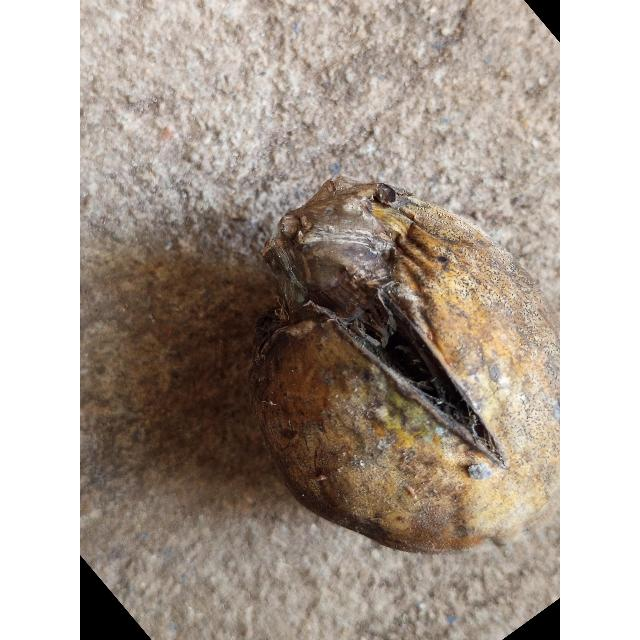damaged: (248, 176, 560, 556)
